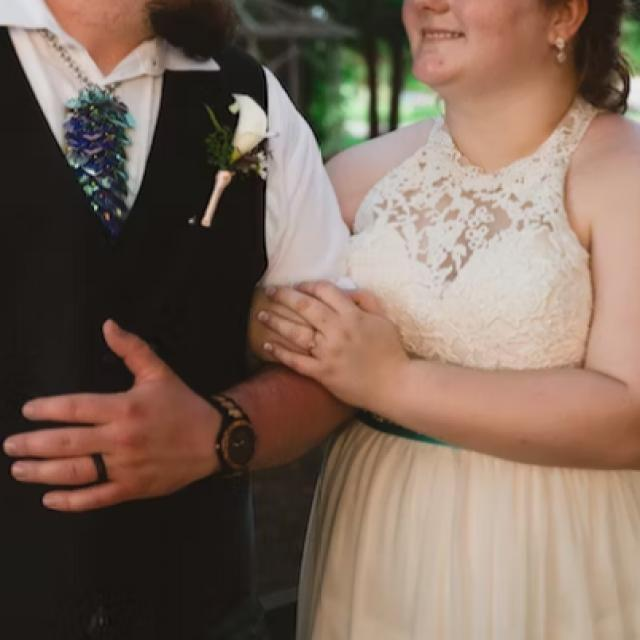Watch: (198, 386, 260, 487)
